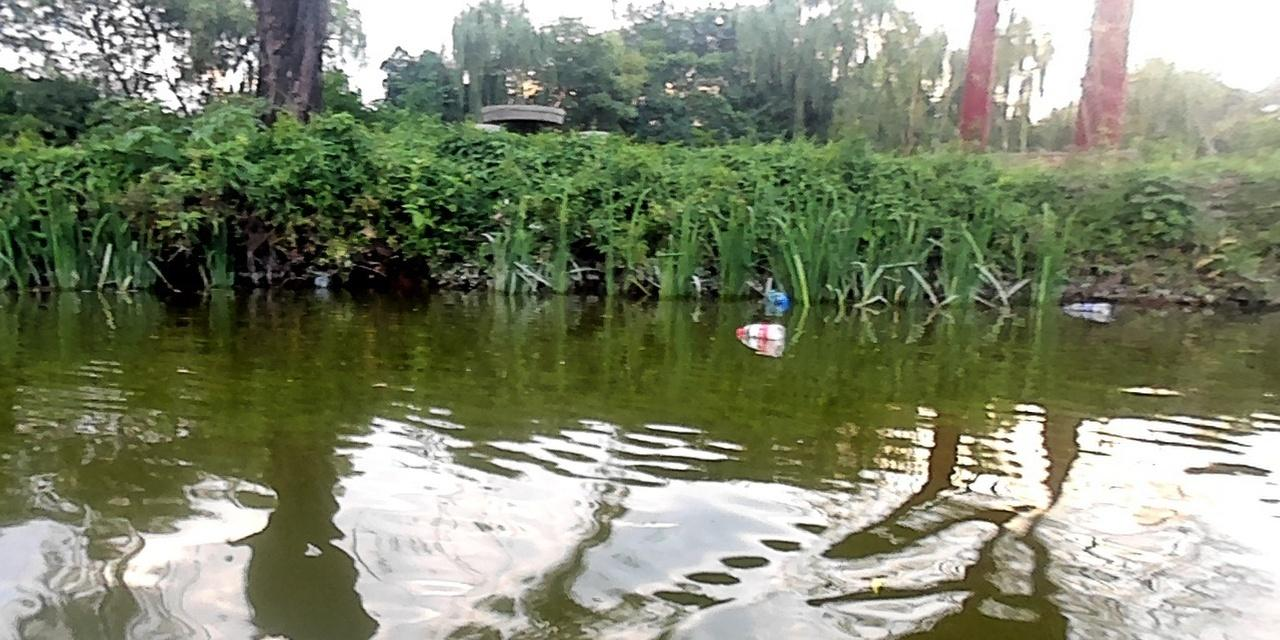bottle: (729, 319, 788, 341), (1061, 298, 1109, 316), (760, 286, 790, 309)
